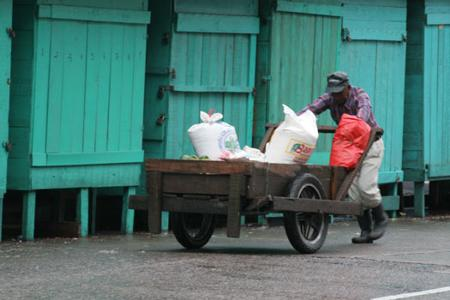person: (291, 71, 392, 247)
